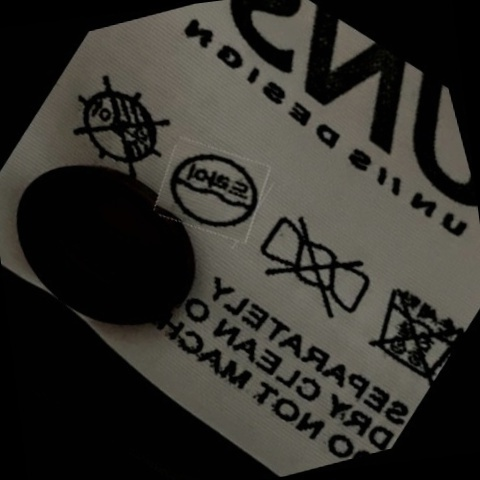DN_dry: (64, 69, 178, 185)
DN_wring: (251, 205, 380, 334)
dry_clean: (161, 138, 265, 245)
hand_wash: (357, 271, 466, 388)
